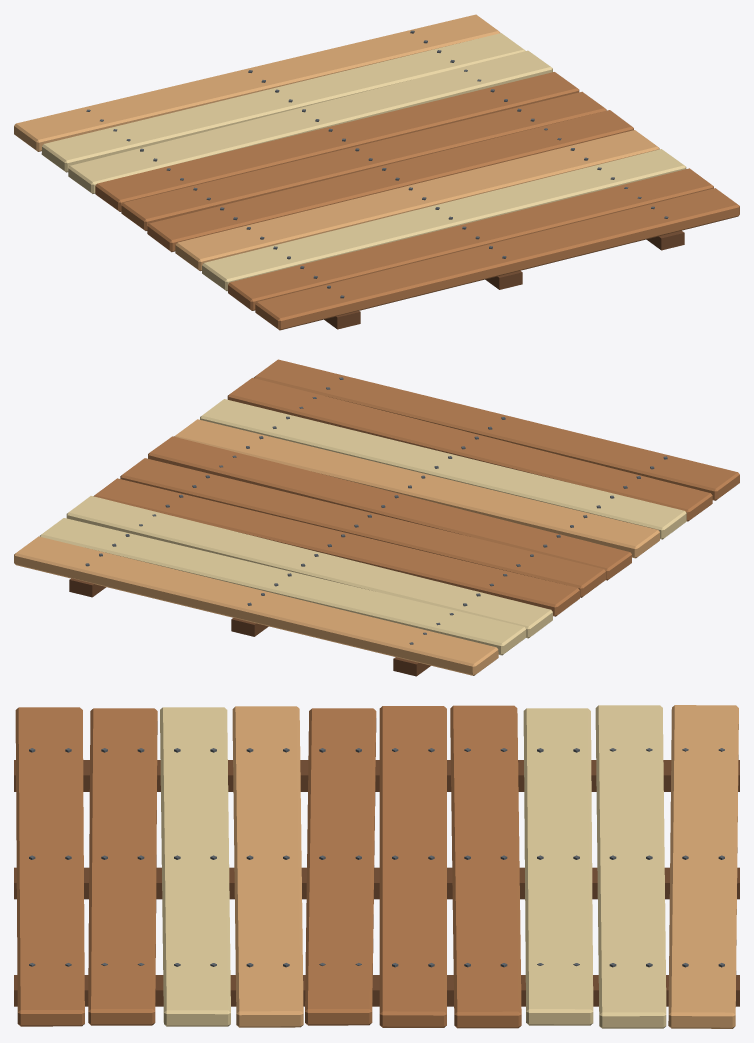
The model's file is floor_deck.glb.
3 views of the same model, one above another, from view 1: azimuth 30°, elevation 25°; view 2: azimuth 150°, elevation 25°; view 3: azimuth 270°, elevation 25° (orthographic). The views are drawn at different scales.
Visible parts, largest first — view 1: Floor Deck; view 2: Floor Deck; view 3: Floor Deck.
Part boxes in pixels (left/top/right/bottom): Floor Deck: left=14, top=14, right=739, bottom=330; Floor Deck: left=14, top=359, right=739, bottom=676; Floor Deck: left=14, top=705, right=739, bottom=1028.
Size of the model in its own units: 2 by 0.106 by 2.
1 material, 1 textured.
